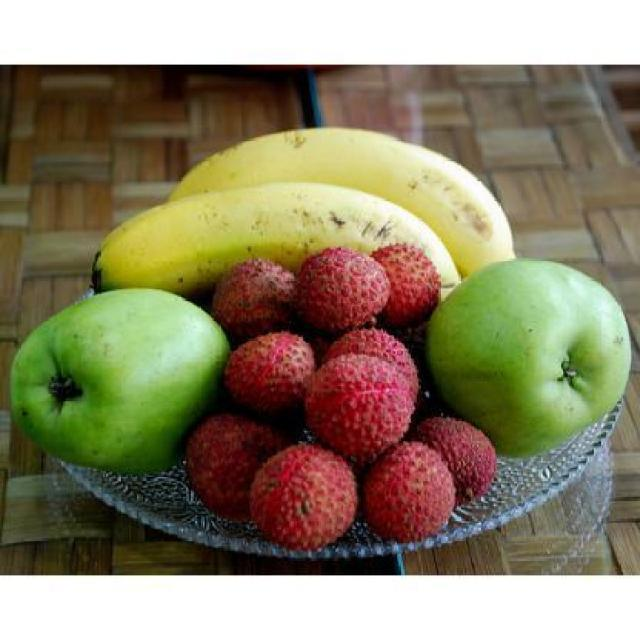Banana: (89, 181, 456, 336), (159, 122, 512, 272)
